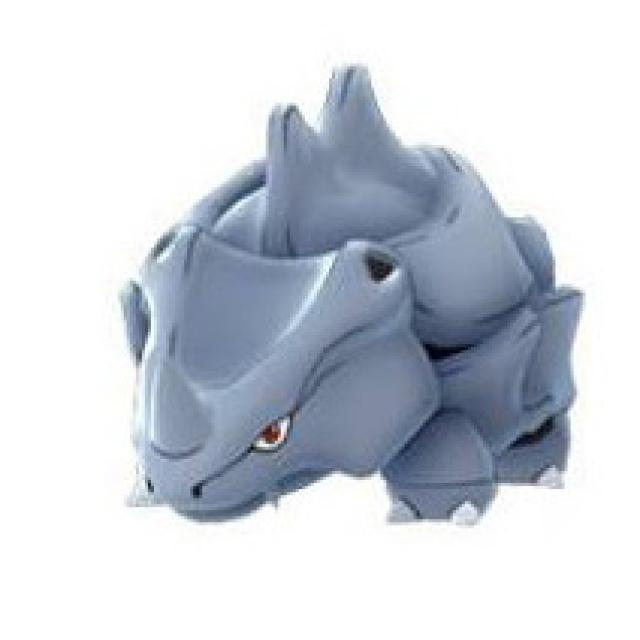Rhyhorn: (114, 104, 578, 537)
